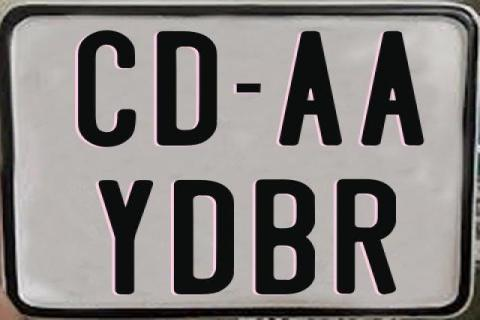A: (360, 32, 427, 150), (279, 29, 344, 144)
B: (256, 178, 318, 294)
C: (75, 31, 136, 151)
D: (154, 29, 219, 147), (173, 179, 237, 297)
R: (334, 177, 393, 297)
Y: (97, 180, 155, 299)
